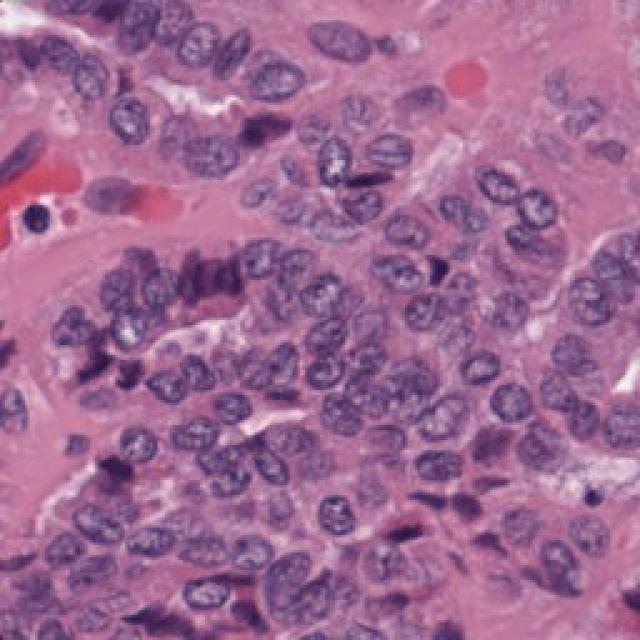abnormal: (285, 2, 380, 83), (47, 495, 148, 565), (483, 347, 550, 445), (83, 72, 160, 156), (289, 482, 374, 555), (349, 108, 419, 192), (458, 151, 535, 226), (240, 330, 317, 403), (405, 385, 482, 455), (175, 125, 252, 190), (97, 400, 165, 473), (57, 38, 125, 110), (235, 52, 315, 113), (173, 553, 245, 620), (223, 222, 290, 288), (508, 170, 575, 235), (132, 357, 203, 413), (155, 415, 230, 465), (180, 20, 227, 78), (248, 442, 297, 493)
